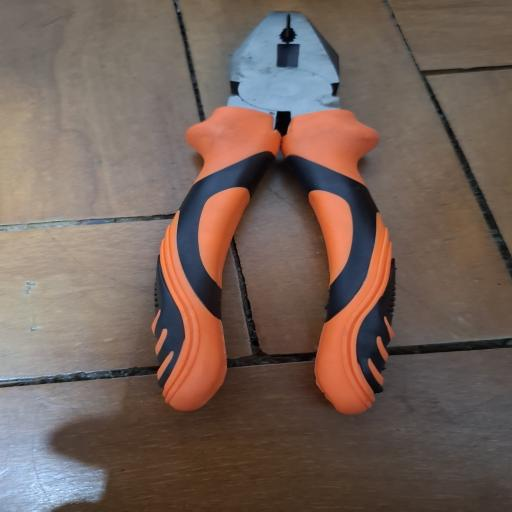alicate: (147, 16, 395, 423)
